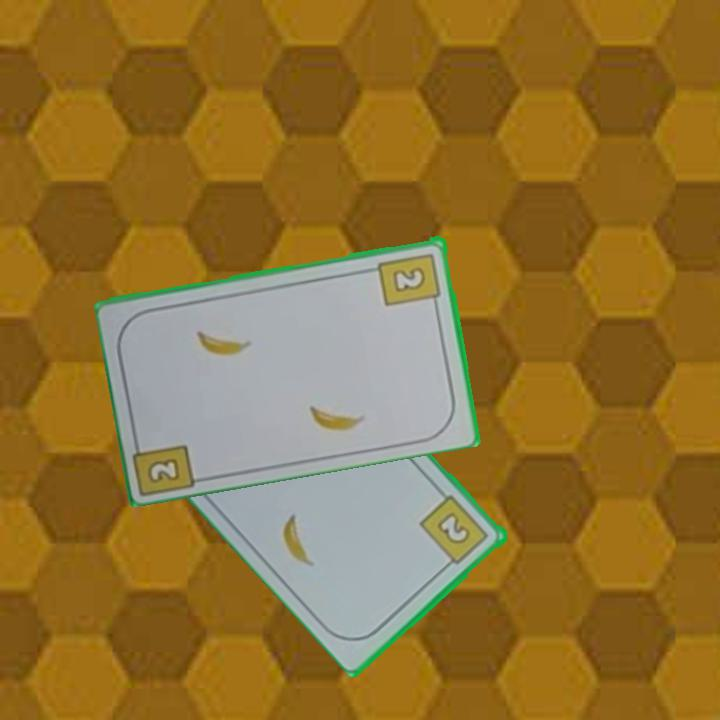2b: (417, 491, 492, 572), (375, 249, 443, 310), (144, 454, 184, 486)
